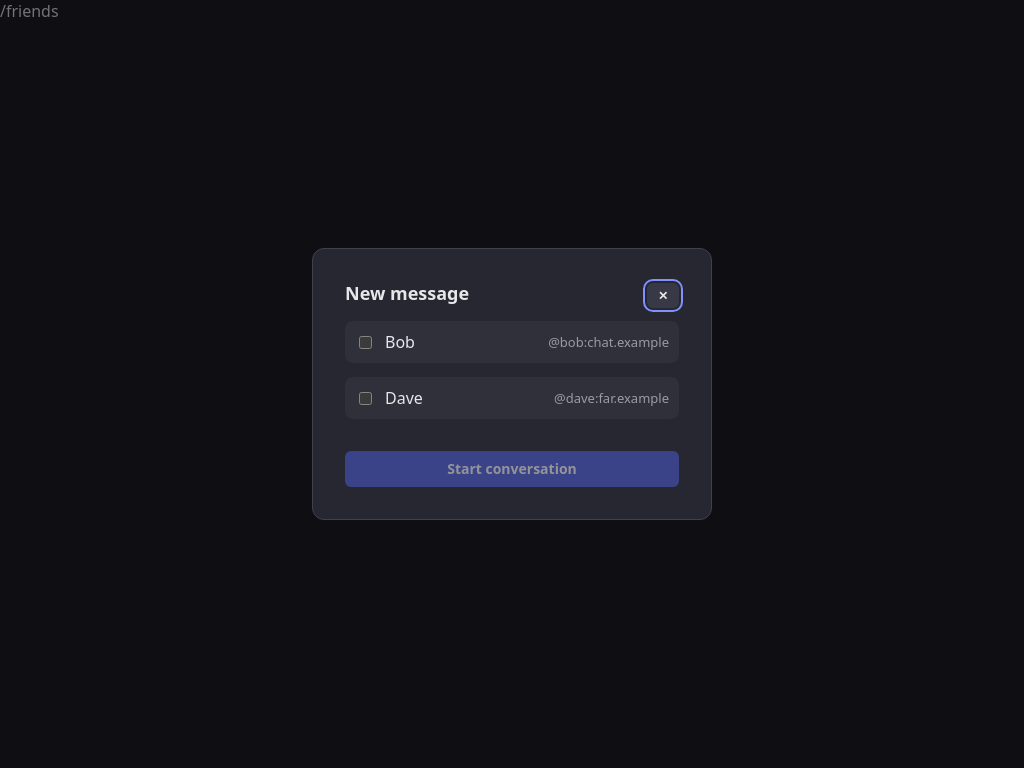
Test case: NewConversationModal on a private server › says why if the server refuses all the same (it was turned private since the page loaded)
This screenshot has width=1024, height=768.
Step 1. Click the checkbox labelled "Dave @dave:far.example" → [366, 398], box x1=359 y1=392 x2=372 y2=405
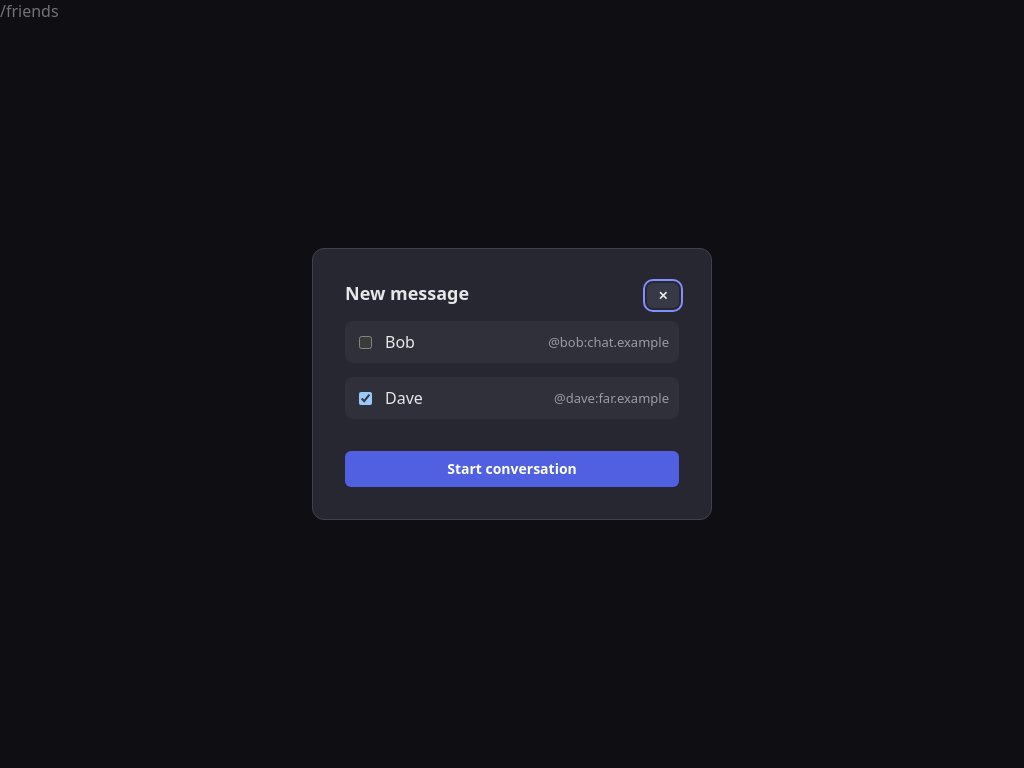
Step 2. Click the button "Start conversation" → [512, 469], box x1=345 y1=451 x2=679 y2=487
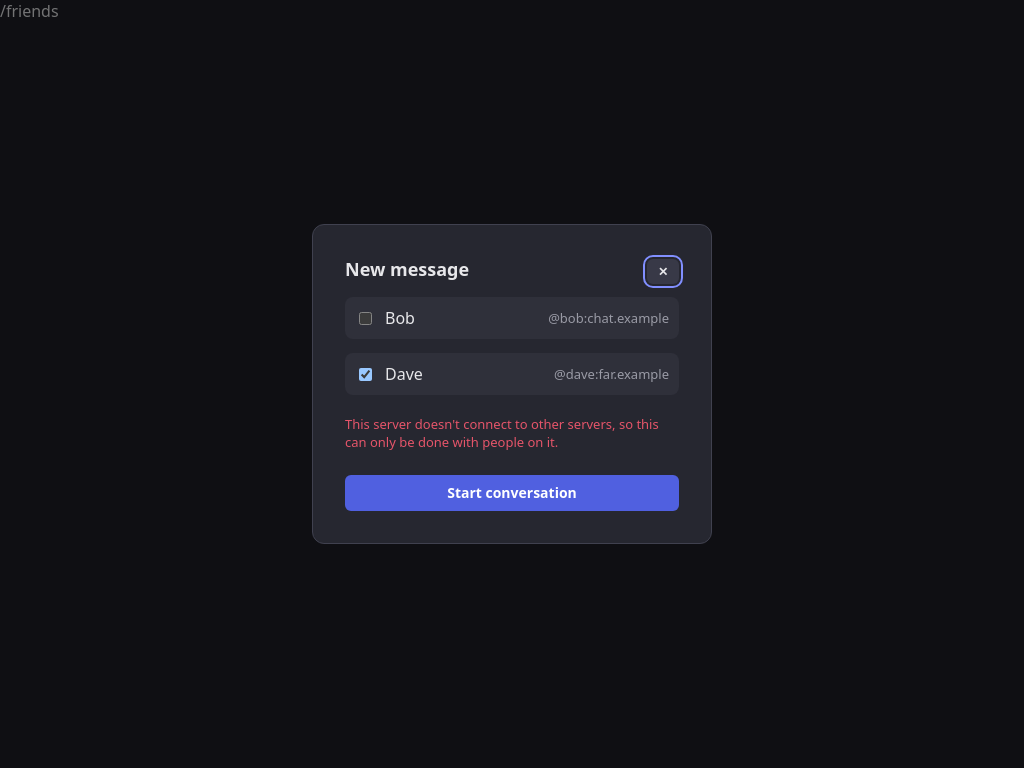
expect the text "doesn't connect to other servers" is shown: met, box x1=345 y1=415 x2=659 y2=451
